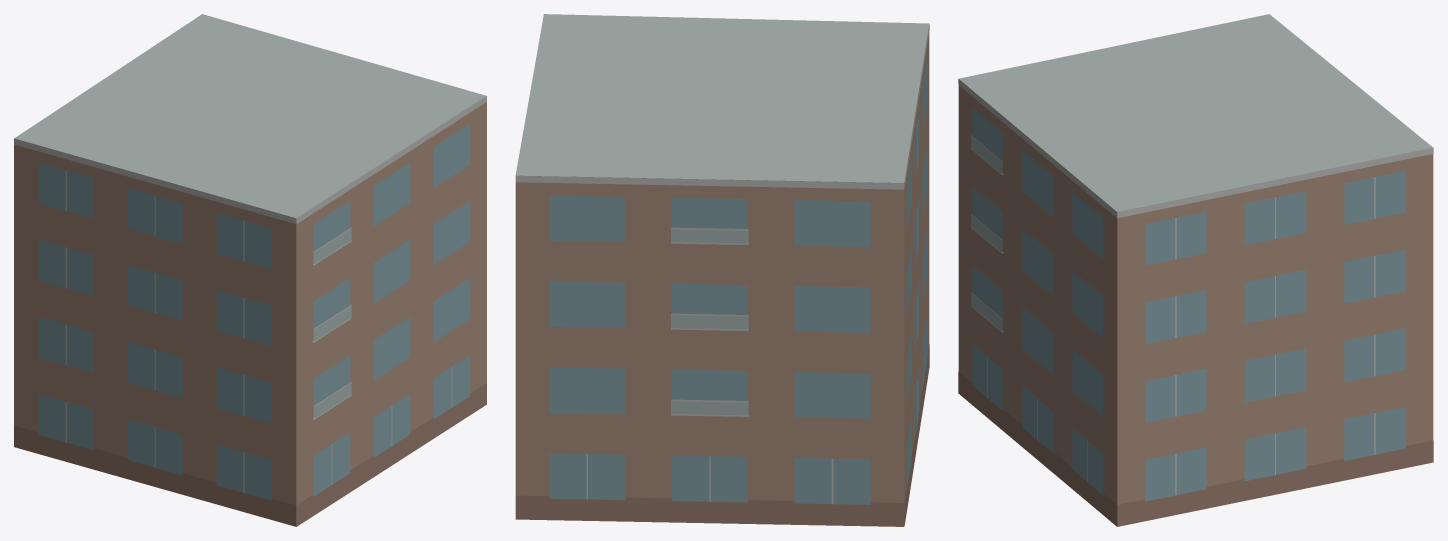
Rendered from survey-upis-32738258.glb.
3 views of the same model, side by side, from view 1: azimuth 30°, elevation 25°; view 2: azimuth 150°, elevation 25°; view 3: azimuth 270°, elevation 25° (orthographic). The views are drawn at different scales.
Visible parts, largest first — view 1: survey-upis-32738258.tmp; view 2: survey-upis-32738258.tmp; view 3: survey-upis-32738258.tmp.
Boxes of the visible parts, bbox=[...] form: survey-upis-32738258.tmp: bbox=[14, 14, 486, 526]; survey-upis-32738258.tmp: bbox=[515, 14, 929, 526]; survey-upis-32738258.tmp: bbox=[958, 14, 1433, 526].
Size of the model in its own units: 17.06 by 12.63 by 17.28.
